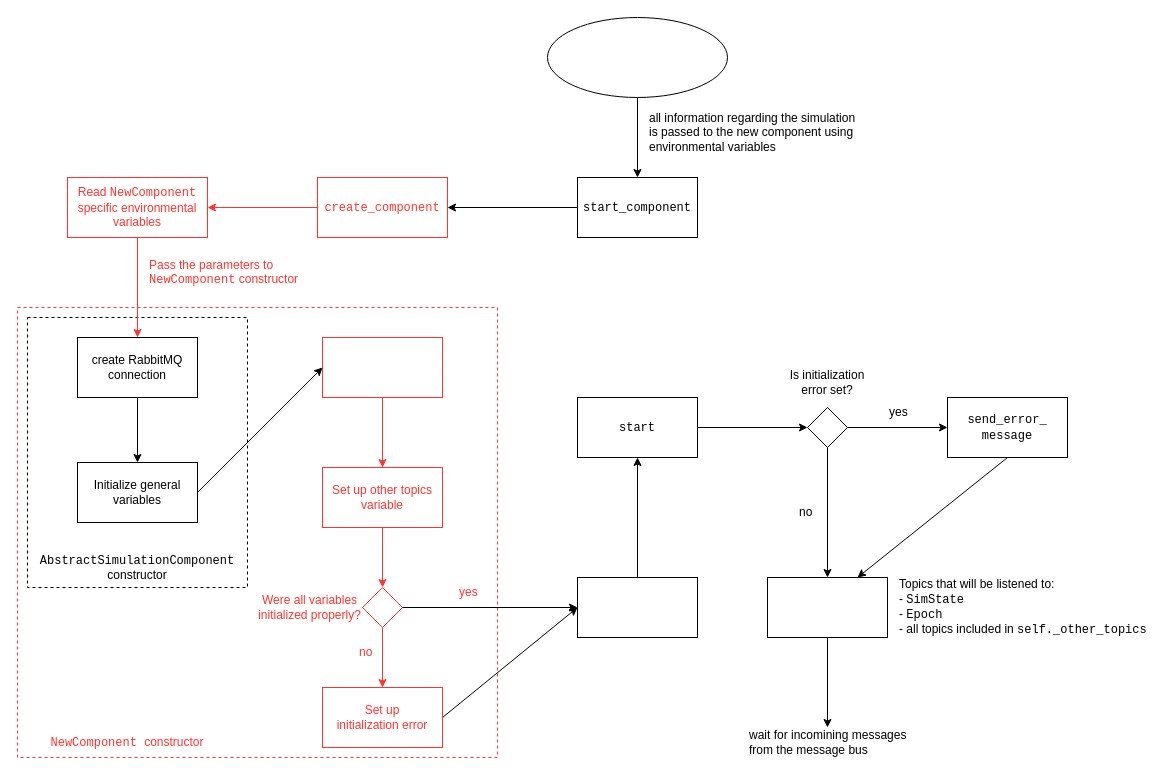
Image size: 1175x775. Some labels were removed from this diagram. Each missing label, with the centre of its shape:
Initialize NewComponent specific variables: point (382, 367)
New component created by Platform Manager: point (637, 57)
NewComponent object: point (637, 607)
start topic listeners for the message bus: point (827, 607)
